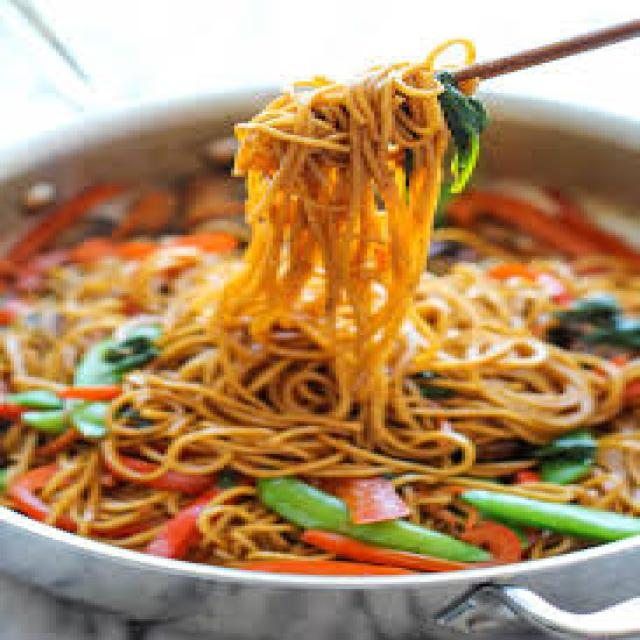Organik: (2, 76, 640, 570)
